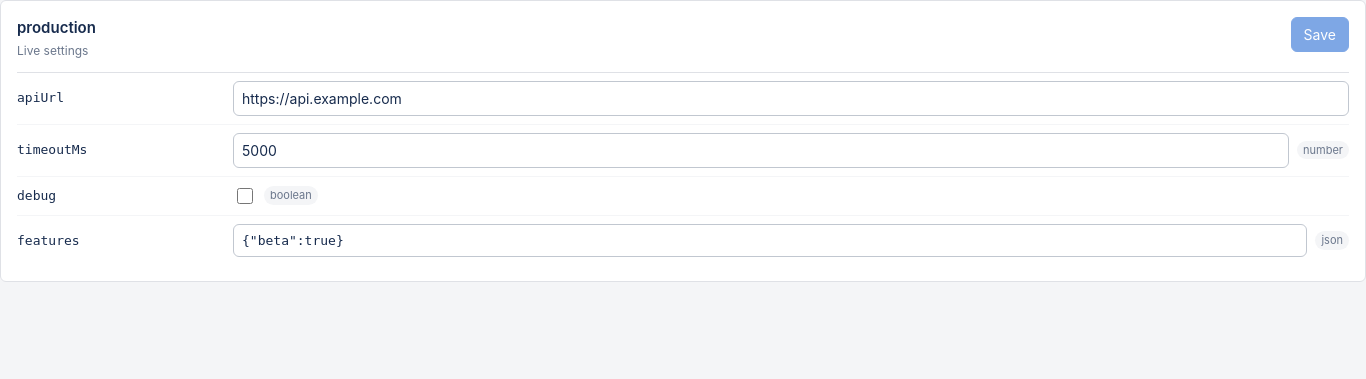
Test case: ConfigurationCard › shows the service’s message when the save is rejected
In the field labelled "apiUrl": x=791, y=98 left=233, top=80, right=1349, bottom=116, type "/v2"
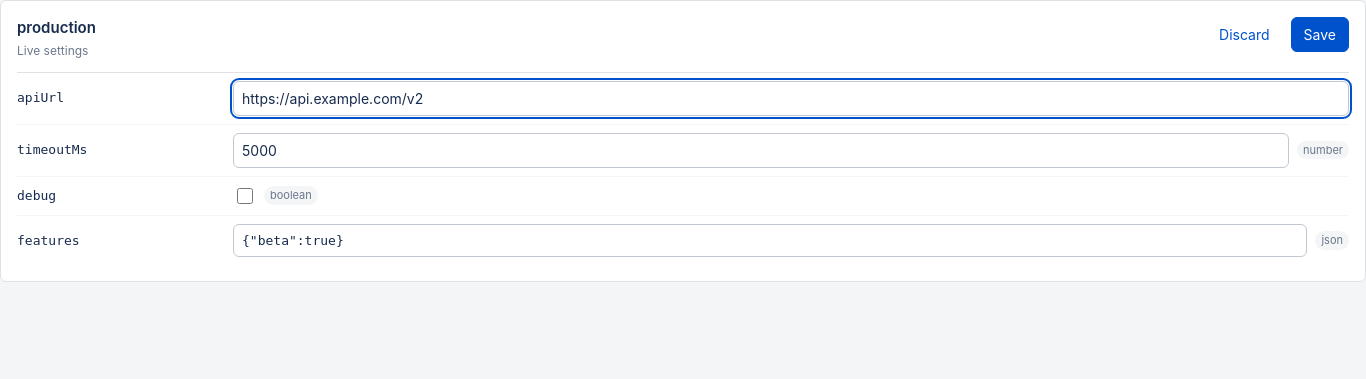
Click the button "Save": x=1320, y=34 left=1291, top=17, right=1349, bottom=52
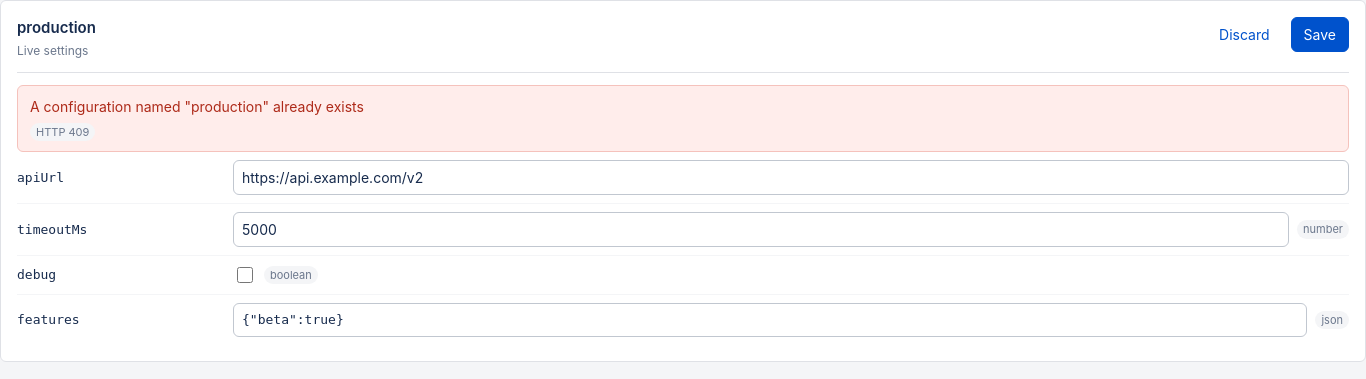
Expected: the field labelled "apiUrl" holds "https://api.example.com/v2", left=233, top=160, right=1349, bottom=195
Expected: the button "Save" is enabled, left=1291, top=17, right=1349, bottom=52
Expected: the text "A configuration named \"production\" already exists" is shown, left=30, top=98, right=364, bottom=114
